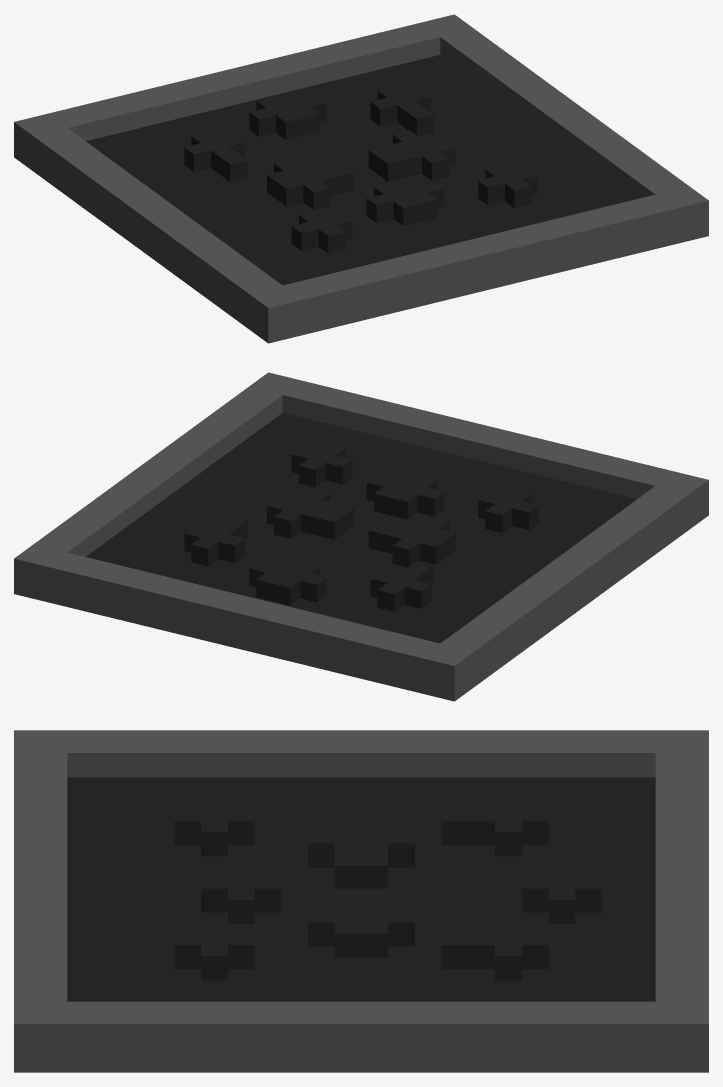
The model's file is trap_STARS_BLACK.glb.
3 views of the same model, one above another, from view 1: azimuth 30°, elevation 25°; view 2: azimuth 150°, elevation 25°; view 3: azimuth 270°, elevation 25° (orthographic). The views are drawn at different scales.
Parts seen in each view (by area): view 1: item_TRAP_STARS_BLACK; view 2: item_TRAP_STARS_BLACK; view 3: item_TRAP_STARS_BLACK.
Boxes of the visible parts, x1,y1,x2,y2 form: item_TRAP_STARS_BLACK: (14,14,708,343); item_TRAP_STARS_BLACK: (14,372,708,701); item_TRAP_STARS_BLACK: (14,730,708,1072).
Size of the model in its own units: 0.5909 by 0.0455 by 0.5909.
Materials: 1 (1 with a texture image).
